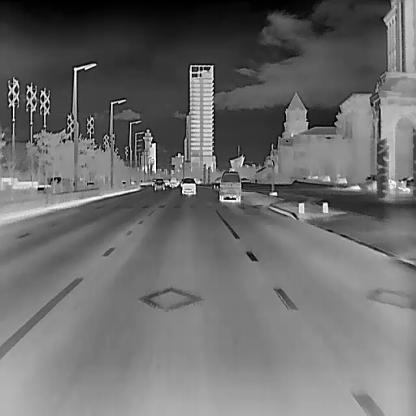car: (219, 171, 241, 202), (181, 177, 196, 195), (154, 177, 165, 190), (169, 176, 178, 187)
